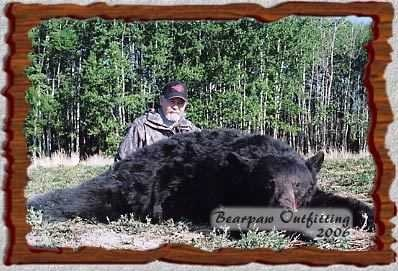bear: (222, 116, 350, 244)
